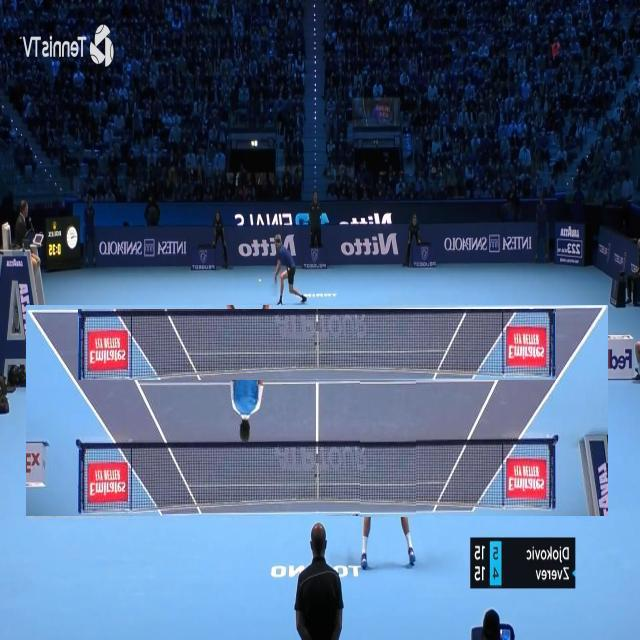court: (26, 306, 608, 518)
net: (78, 310, 556, 380)
player: (360, 378, 416, 568)
